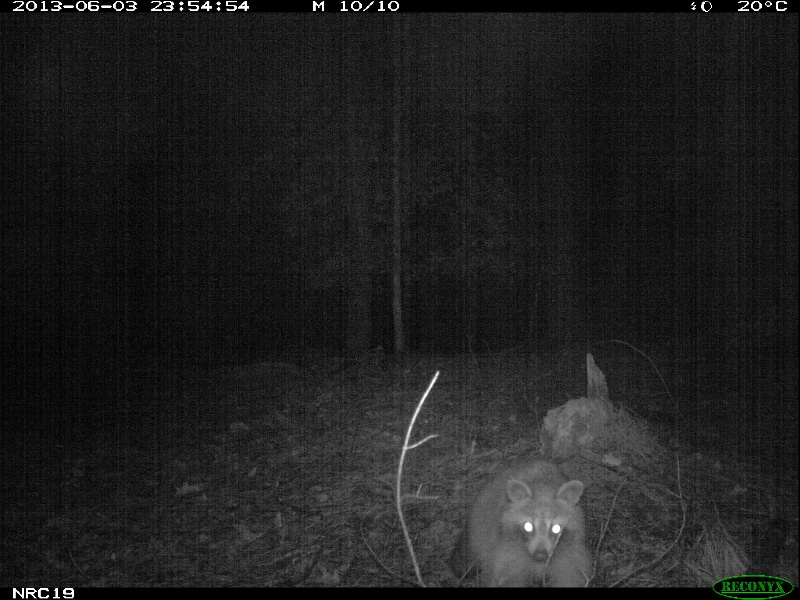raccoon: (465, 456, 595, 588)
